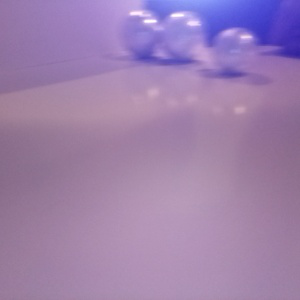alive_ball: (160, 11, 208, 61), (213, 27, 259, 75), (119, 9, 162, 58)
